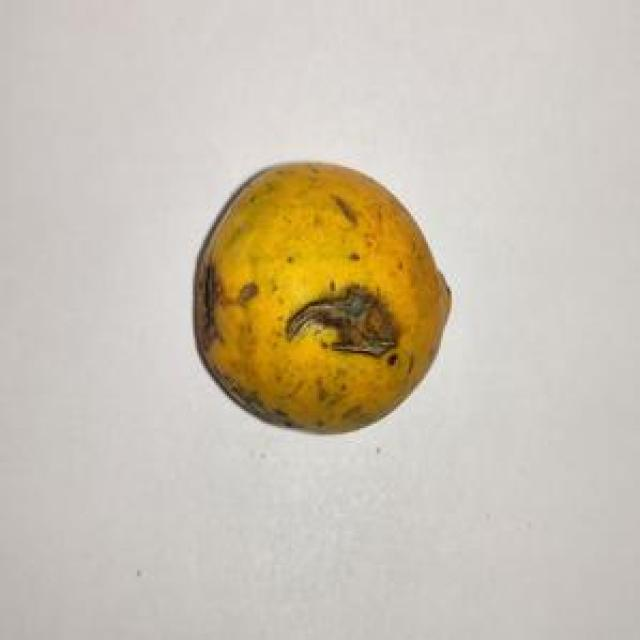damaged: (205, 193, 479, 454)
